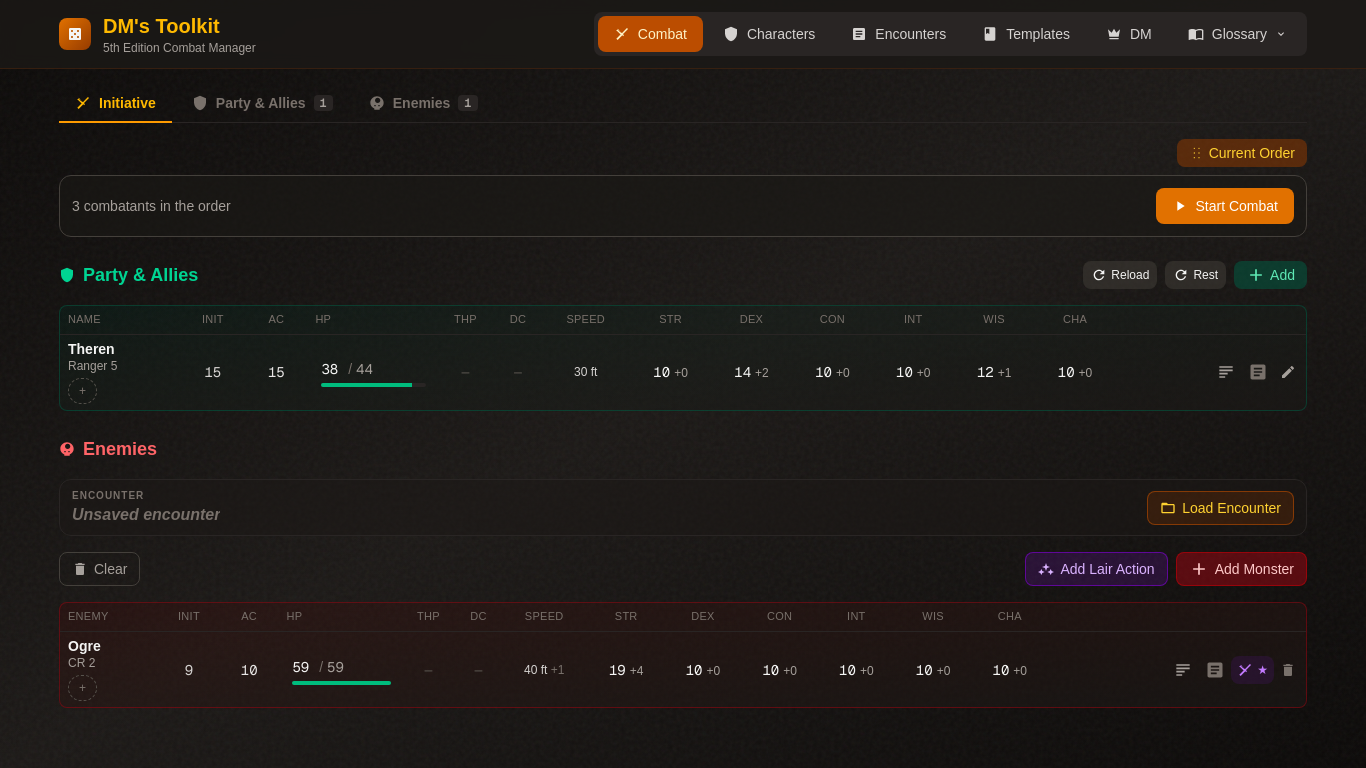
Test case: CombatPage — combatant detail drawer › Up Next opens the drawer pinned to the next combatant
Click the button "Start Combat": (1225, 206) x1=1156 y1=188 x2=1294 y2=224
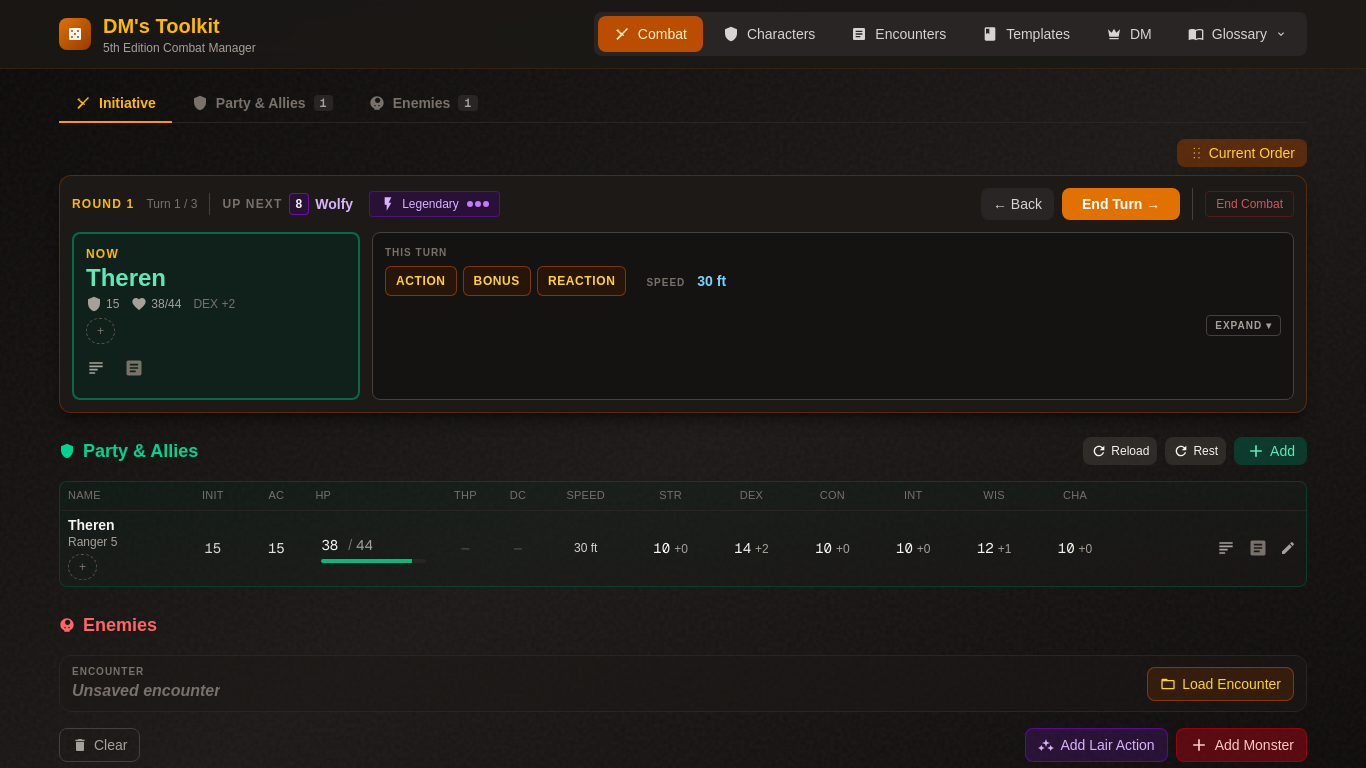
Click the button with test id "up-next": (323, 204) x1=289 y1=193 x2=357 y2=215
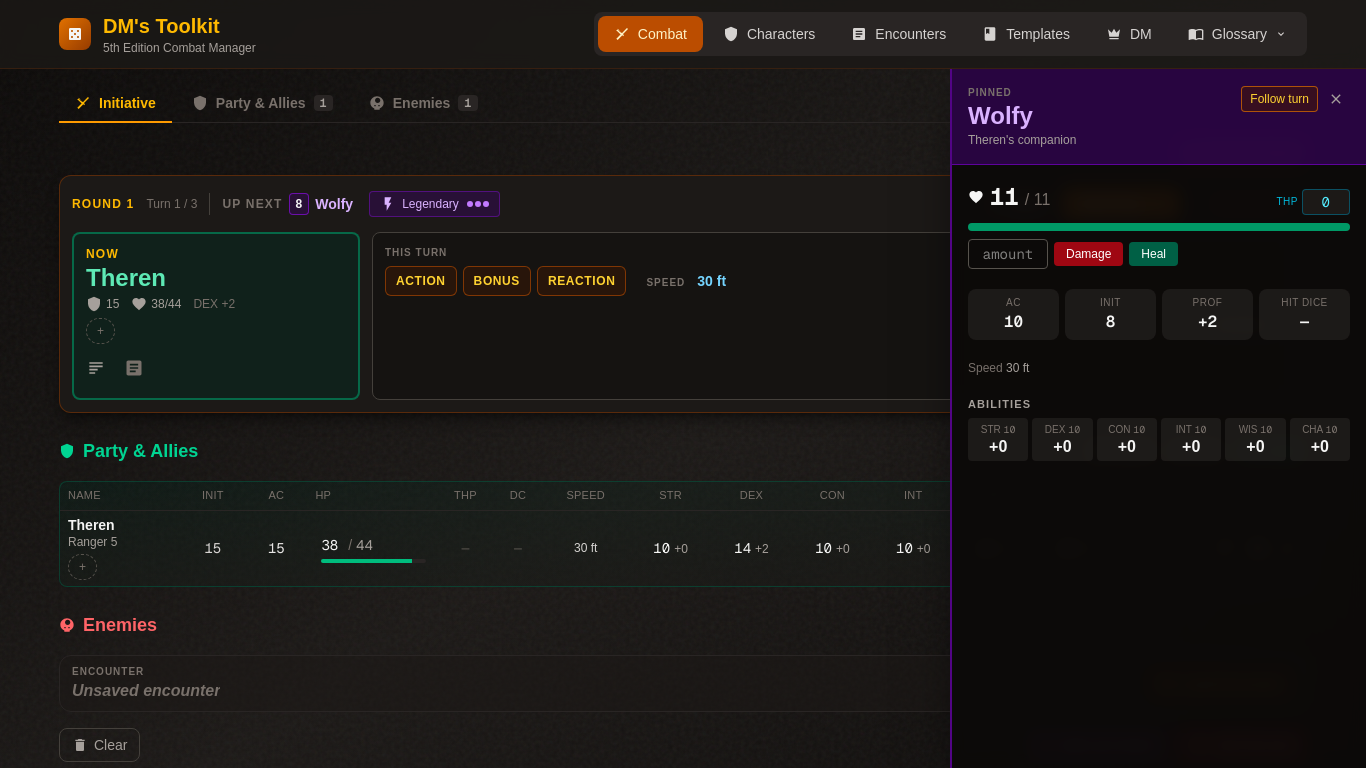
Result: the text "Wolfy" is shown at x1=315 y1=194 x2=353 y2=214
Result: the text "Pinned" is shown at x1=968 y1=85 x2=1012 y2=100
